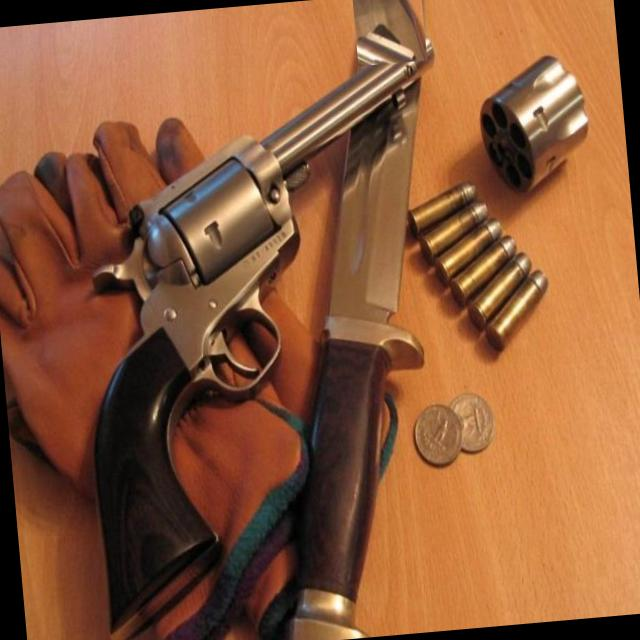Gun: (95, 30, 433, 639)
Knife: (290, 80, 423, 640), (352, 0, 426, 60)
